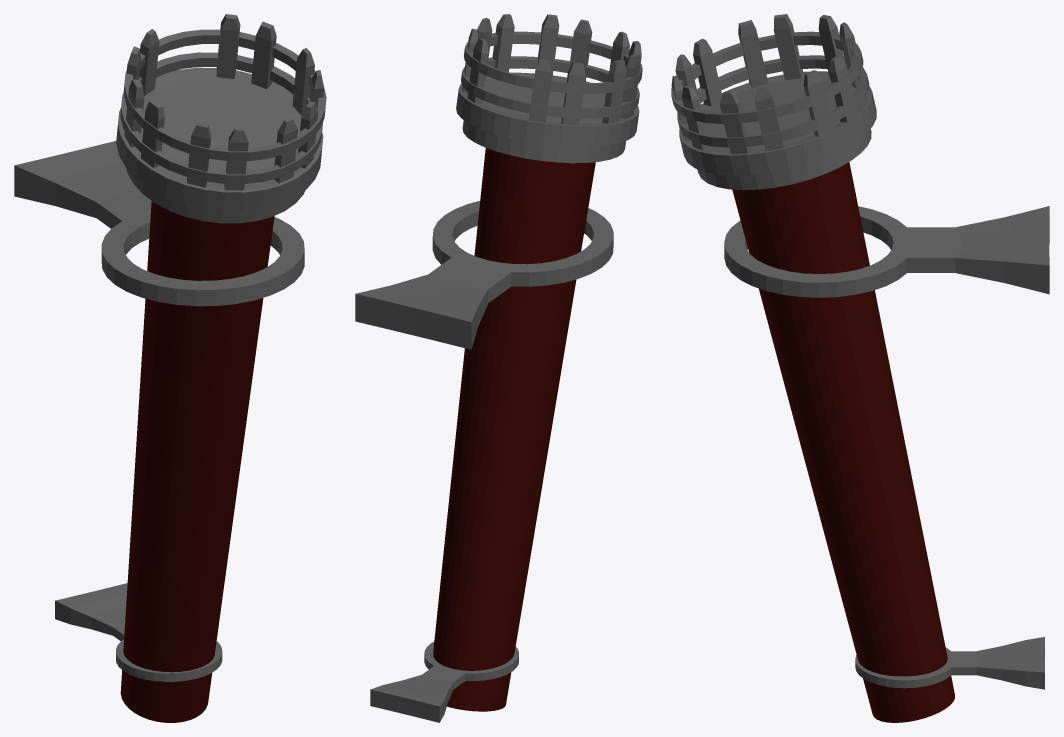
The model's file is Torch.obj.
3 views of the same model, side by side, from view 1: azimuth 30°, elevation 25°; view 2: azimuth 150°, elevation 25°; view 3: azimuth 270°, elevation 25° (orthographic). The views are drawn at different scales.
Visible parts, largest first — view 1: Cylinder.003_Cylinder.014; view 2: Cylinder.003_Cylinder.014; view 3: Cylinder.003_Cylinder.014.
Boxes of the visible parts, left/top/right/bottom form: Cylinder.003_Cylinder.014: left=14, top=14, right=326, bottom=722; Cylinder.003_Cylinder.014: left=355, top=14, right=642, bottom=722; Cylinder.003_Cylinder.014: left=671, top=14, right=1049, bottom=722.
Size of the model in its own units: 1.46 by 5.48 by 2.82.
